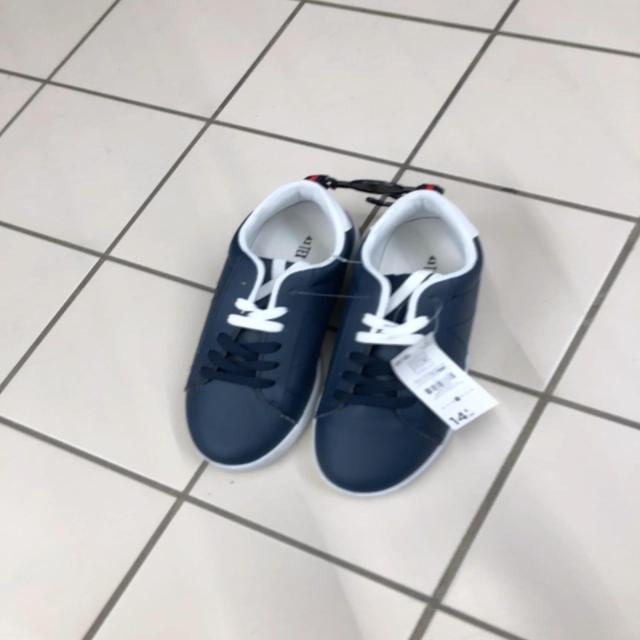shoe: (184, 178, 359, 471)
